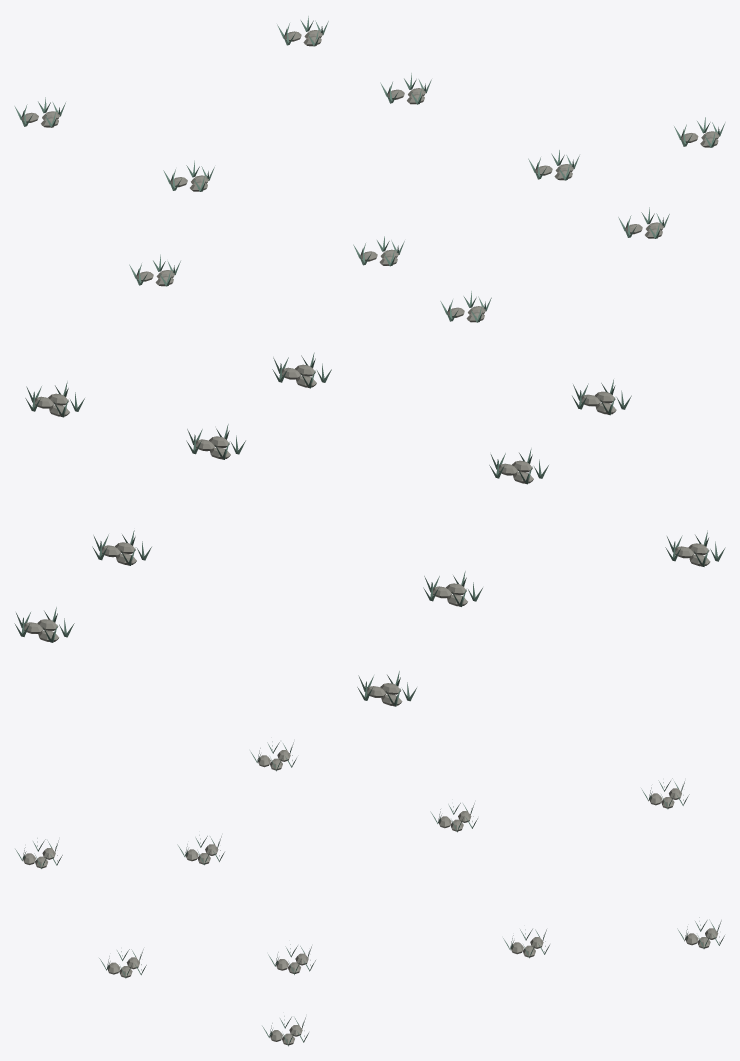
The model's file is fol_ground_tufts_a.glb.
3 renders of one model, top to bottom at view 1: azimuth 30°, elevation 25°; view 2: azimuth 150°, elevation 25°; view 3: azimuth 270°, elevation 25°, orthographic. The views are drawn at different scales.
Parts seen in each view (by area): view 1: lod0__fol_ground_tufts_a; view 2: lod0__fol_ground_tufts_a; view 3: lod0__fol_ground_tufts_a.
Boxes of the visible parts, x1,y1,x2,y2 form: lod0__fol_ground_tufts_a: (14, 16, 725, 322); lod0__fol_ground_tufts_a: (14, 352, 725, 706); lod0__fol_ground_tufts_a: (15, 741, 724, 1046).
Size of the model in its own units: 11.77 by 0.29 by 11.82.
Materials: 1 (1 with a texture image).
